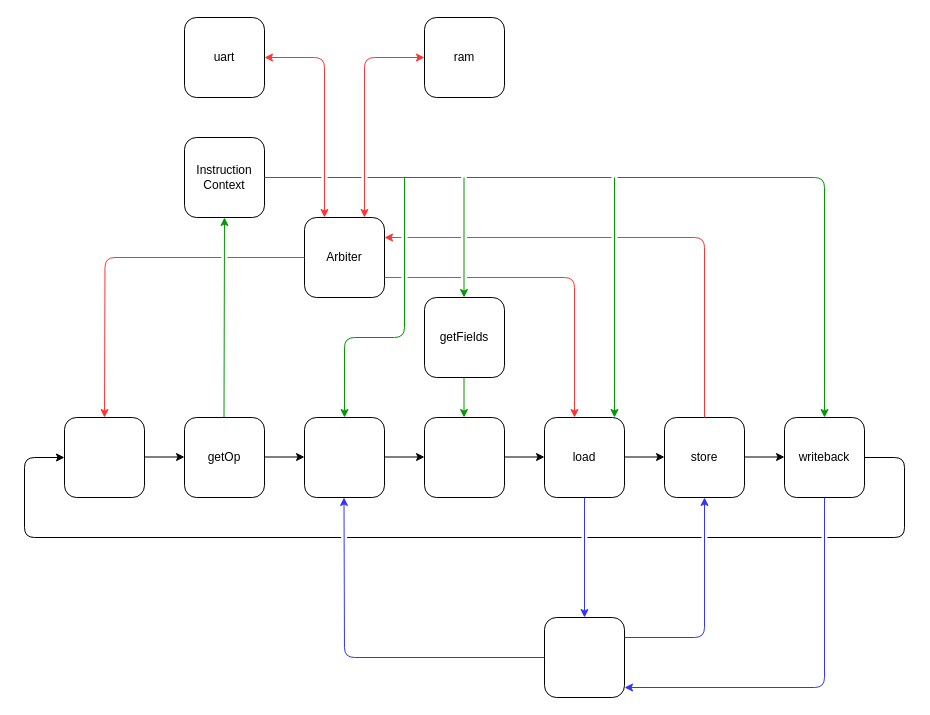
Image size: 930x715. Some labels were removed from this diagram. Each missing label, with the centre of its shape:
"execute" belongs at point 464,457.
"fetch" belongs at point 104,457.
"read" belongs at point 344,457.
"regFile" belongs at point 584,657.
